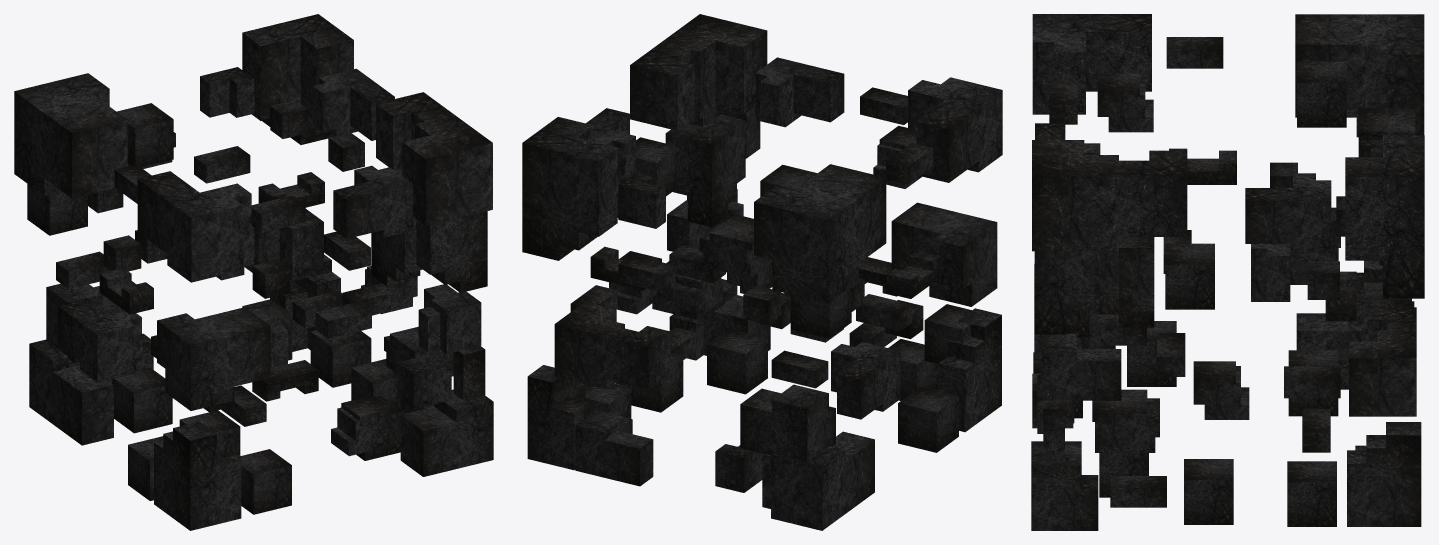
The model's file is shitou_2.FBX.
The picture shows the model from 3 angles, left to right: view 1: azimuth 30°, elevation 25°; view 2: azimuth 150°, elevation 25°; view 3: azimuth 270°, elevation 25°; orthographic projection. The views are drawn at different scales.
Visible parts, largest first — view 1: 46, 04, 01, 08, 34, 11, 26, 56, 55, 03, 20, 33 (+38 smaller); view 2: 46, 04, 34, 56, 01, 37, 08, 21, 54, 11, 03, 41 (+36 smaller); view 3: 04, 34, 46, 01, 41, 37, 33, 26, 21, 22, 20, 27 (+28 smaller).
Part boxes in pixels (left/top/right/bottom): 46: left=14, top=73, right=127, bottom=198; 04: left=376, top=92, right=492, bottom=225; 01: left=137, top=171, right=251, bottom=282; 08: left=157, top=307, right=270, bottom=410; 34: left=242, top=14, right=353, bottom=144; 11: left=154, top=421, right=241, bottom=530; 26: left=400, top=389, right=493, bottom=476; 56: left=29, top=339, right=113, bottom=445; 55: left=58, top=300, right=141, bottom=382; 03: left=333, top=165, right=413, bottom=238; 20: left=416, top=211, right=487, bottom=292; 33: left=312, top=68, right=394, bottom=140; 46: left=754, top=164, right=886, bottom=303; 04: left=630, top=14, right=767, bottom=130; 34: left=522, top=117, right=617, bottom=260; 56: left=762, top=431, right=874, bottom=530; 01: left=908, top=77, right=1002, bottom=182; 37: left=554, top=302, right=670, bottom=389; 08: left=891, top=202, right=997, bottom=306; 21: left=665, top=114, right=745, bottom=227; 54: left=740, top=384, right=835, bottom=462; 11: left=933, top=308, right=1001, bottom=432; 03: left=755, top=57, right=844, bottom=127; 41: left=527, top=365, right=589, bottom=470; 04: left=1032, top=140, right=1187, bottom=251; 34: left=1345, top=135, right=1424, bottom=298; 46: left=1295, top=14, right=1424, bottom=137; 01: left=1032, top=14, right=1151, bottom=114; 41: left=1347, top=422, right=1421, bottom=526; 37: left=1349, top=307, right=1416, bottom=416; 33: left=1245, top=173, right=1331, bottom=252; 26: left=1031, top=441, right=1098, bottom=530; 21: left=1094, top=237, right=1154, bottom=327; 22: left=1041, top=333, right=1121, bottom=400; 20: left=1034, top=251, right=1094, bottom=334; 27: left=1092, top=389, right=1159, bottom=452.
Bounding box in the file's own units: 7711 × 7708 × 7727.
